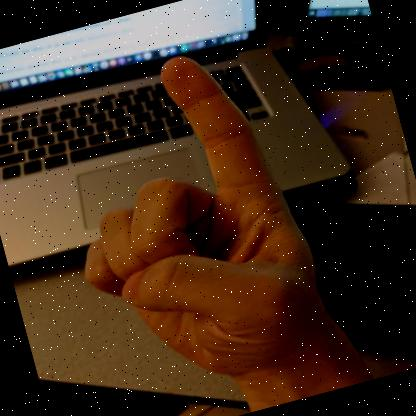D: (84, 55, 345, 381)
